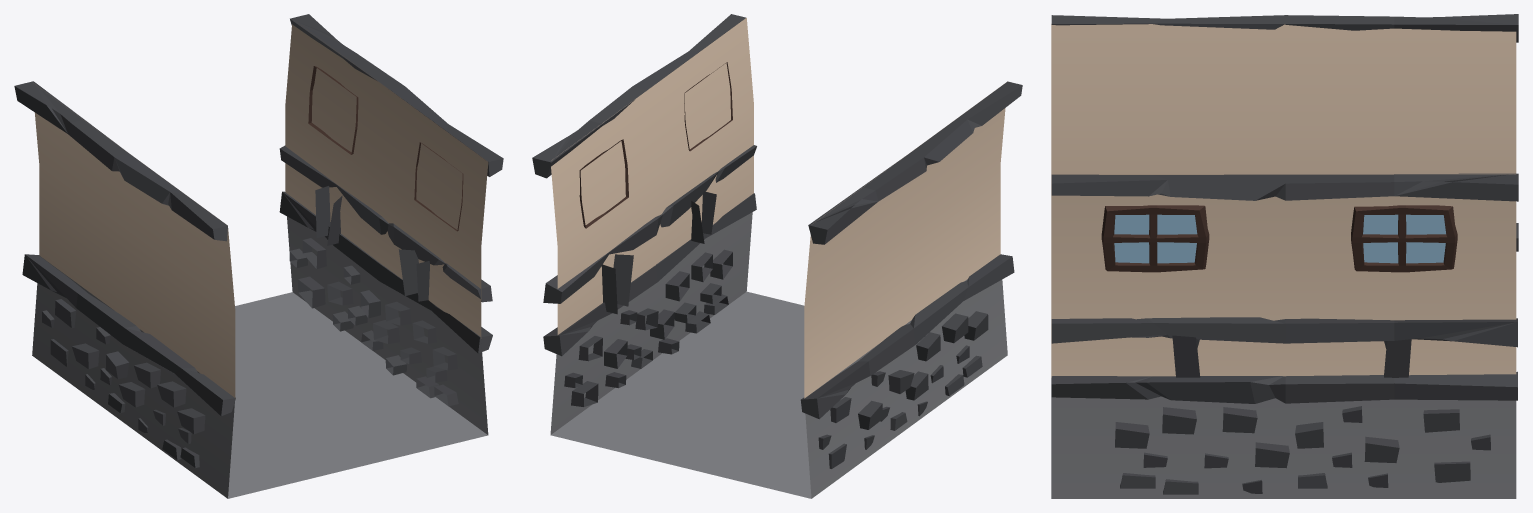
Rendered from SM_L_G_Home_Base.fbx.
The picture shows the model from 3 angles, left to right: view 1: azimuth 30°, elevation 25°; view 2: azimuth 150°, elevation 25°; view 3: azimuth 270°, elevation 25°; orthographic projection. The views are drawn at different scales.
Parts seen in each view (by area): view 1: SM_L_G_Home_Base; view 2: SM_L_G_Home_Base; view 3: SM_L_G_Home_Base.
Part boxes in pixels (<box>): SM_L_G_Home_Base: <box>14,14,503,498</box>; SM_L_G_Home_Base: <box>532,14,1022,498</box>; SM_L_G_Home_Base: <box>1051,14,1518,498</box>.
Bounding box in the file's own units: 484 × 427 × 557.
